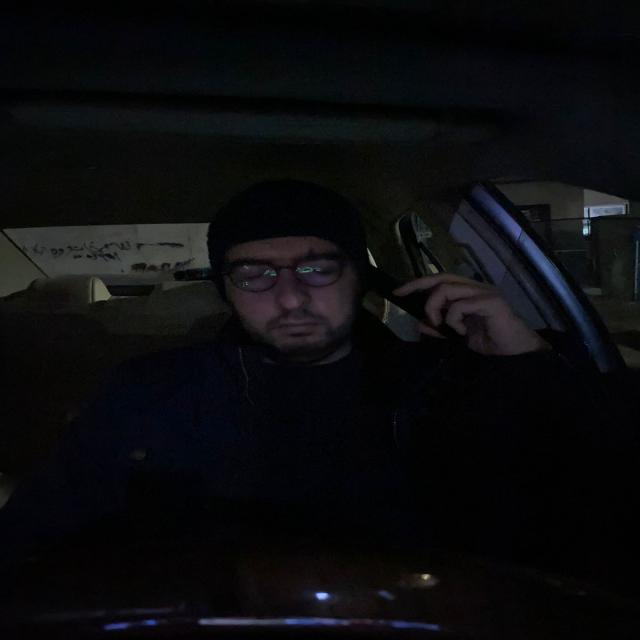mobile: (376, 268, 488, 340)
person: (208, 196, 368, 361)
